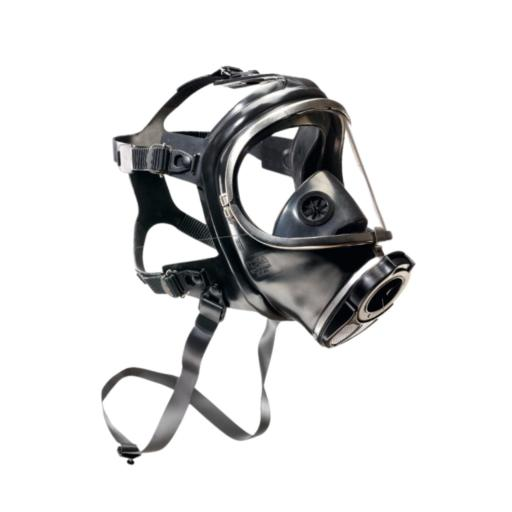mask: (111, 58, 426, 367)
